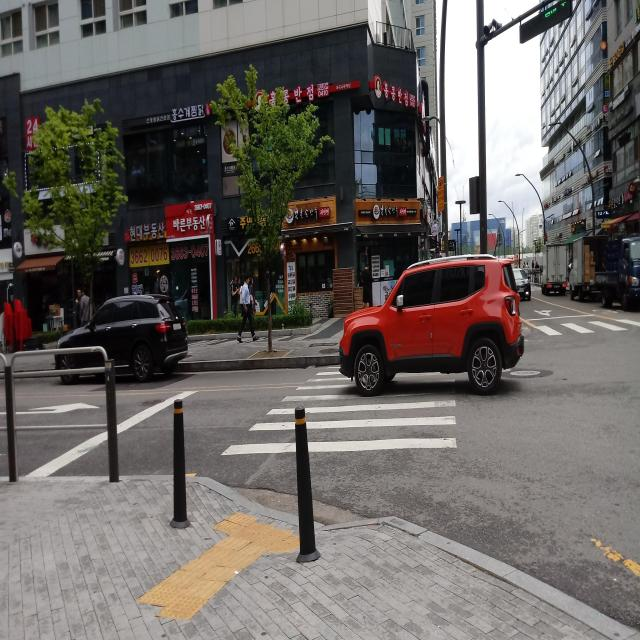횡단보도: (218, 361, 459, 460), (536, 315, 640, 340)
